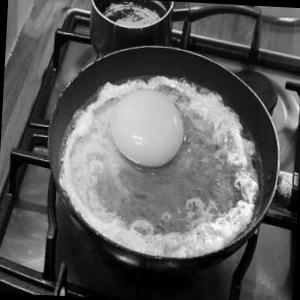omelet: (45, 44, 270, 258)
